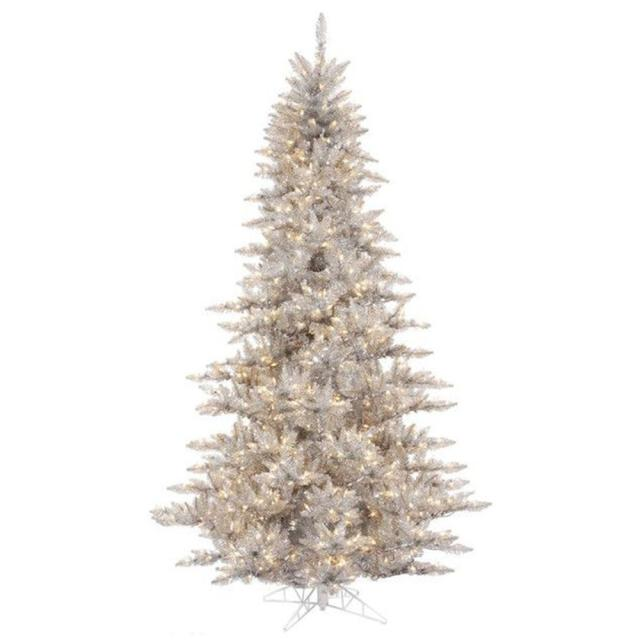Christmas-tree: (182, 14, 485, 616)
